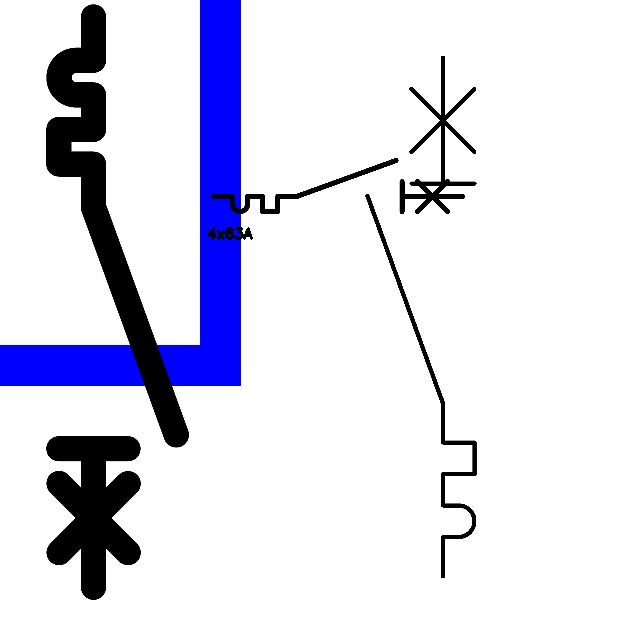interruptor_termomagnetico: (44, 2, 191, 601), (354, 44, 488, 590), (207, 154, 469, 218)
